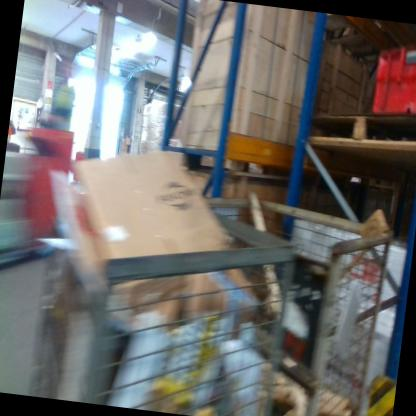pallet: (306, 97, 416, 154)
pallet_truck: (0, 99, 78, 281)
stillage: (24, 170, 303, 416), (181, 183, 389, 416)
